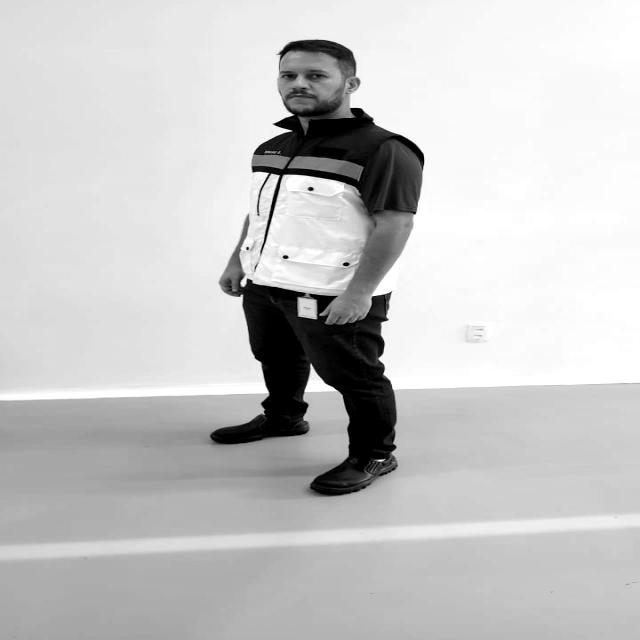Boots: (302, 449, 402, 501), (204, 407, 314, 448)
Vest: (247, 135, 384, 290)
